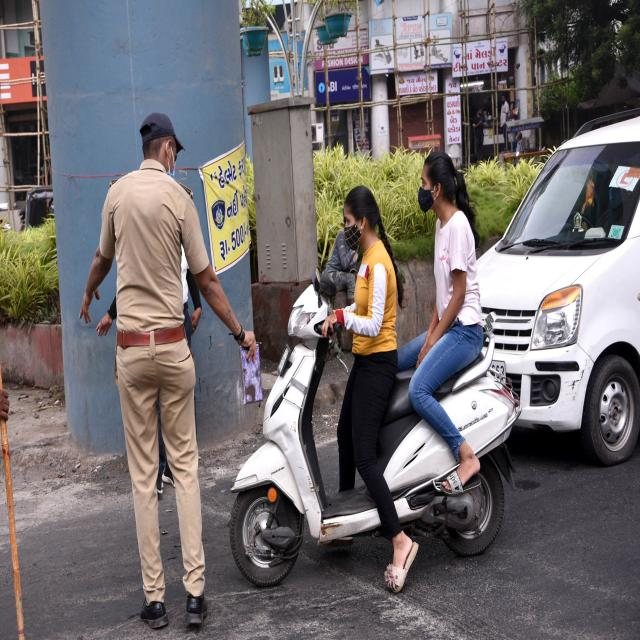car: (478, 110, 640, 465)
motorcycle: (230, 151, 520, 594)
